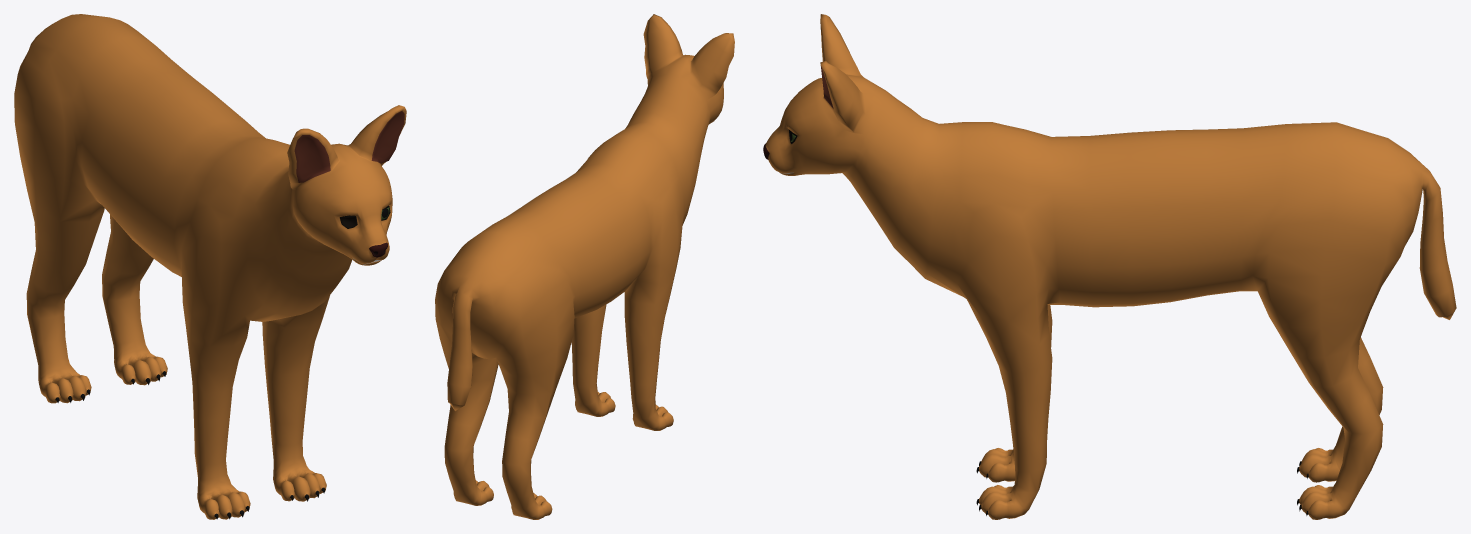
File: serval.obj
3 renders of one model, left to right at view 1: azimuth 30°, elevation 25°; view 2: azimuth 150°, elevation 25°; view 3: azimuth 270°, elevation 25°, orthographic. The views are drawn at different scales.
Parts seen in each view (by area): view 1: serval; view 2: serval; view 3: serval.
Boxes of the visible parts, x1,y1,x2,y2 form: serval: (14,14,406,519); serval: (435,14,734,519); serval: (763,14,1456,519).
Bounding box in the file's own units: 0.2282 × 0.7029 × 0.9723.
